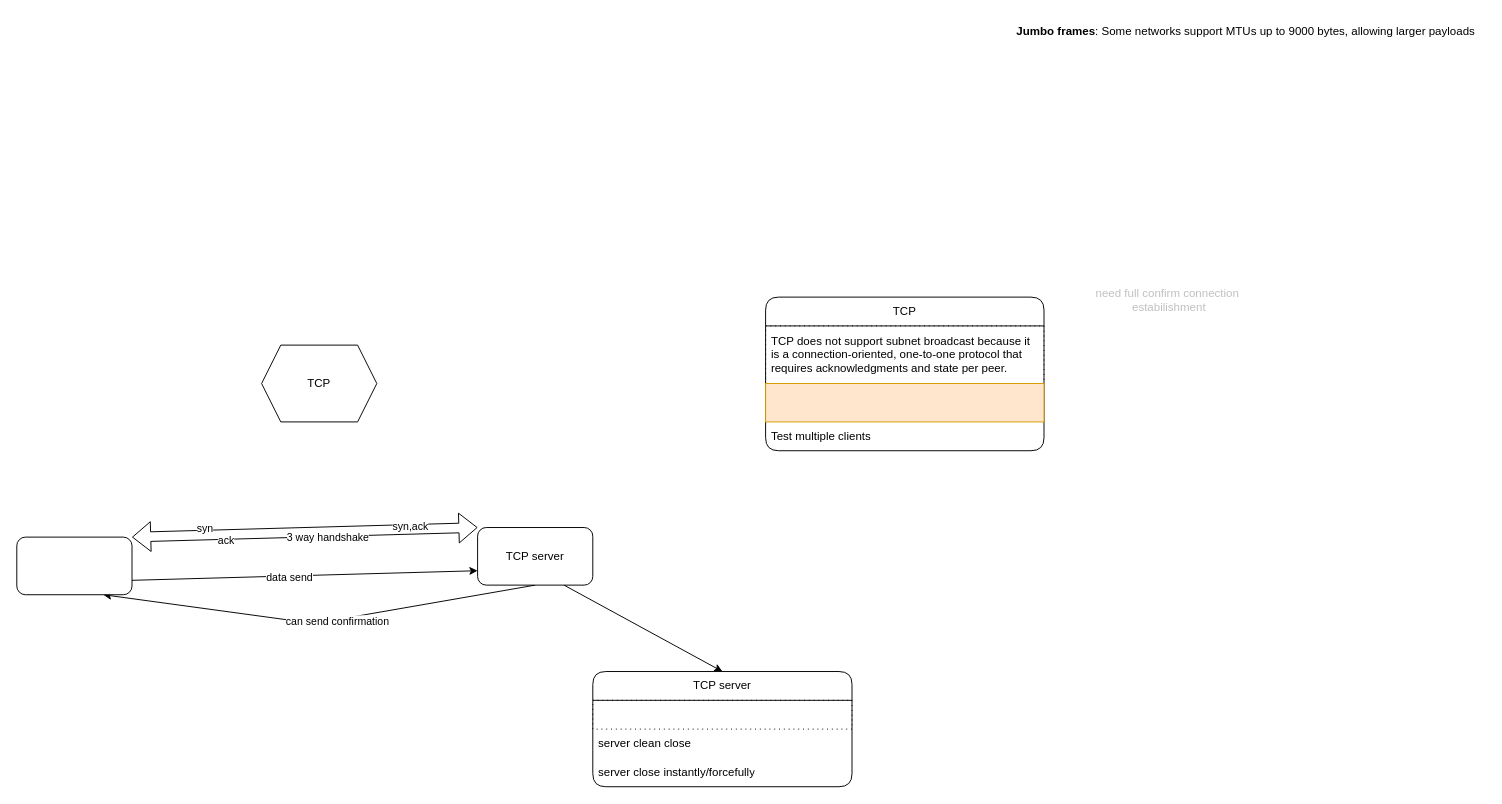
This 1502x804 diagram has some shape labels left out. Each missing label, with the box of its shape:
See the actual TCP handshake (SYN, SYN-ACK, ACK): (765, 383, 1044, 422)
Server create/open: (592, 699, 852, 729)
TCP client: (16, 536, 132, 595)
